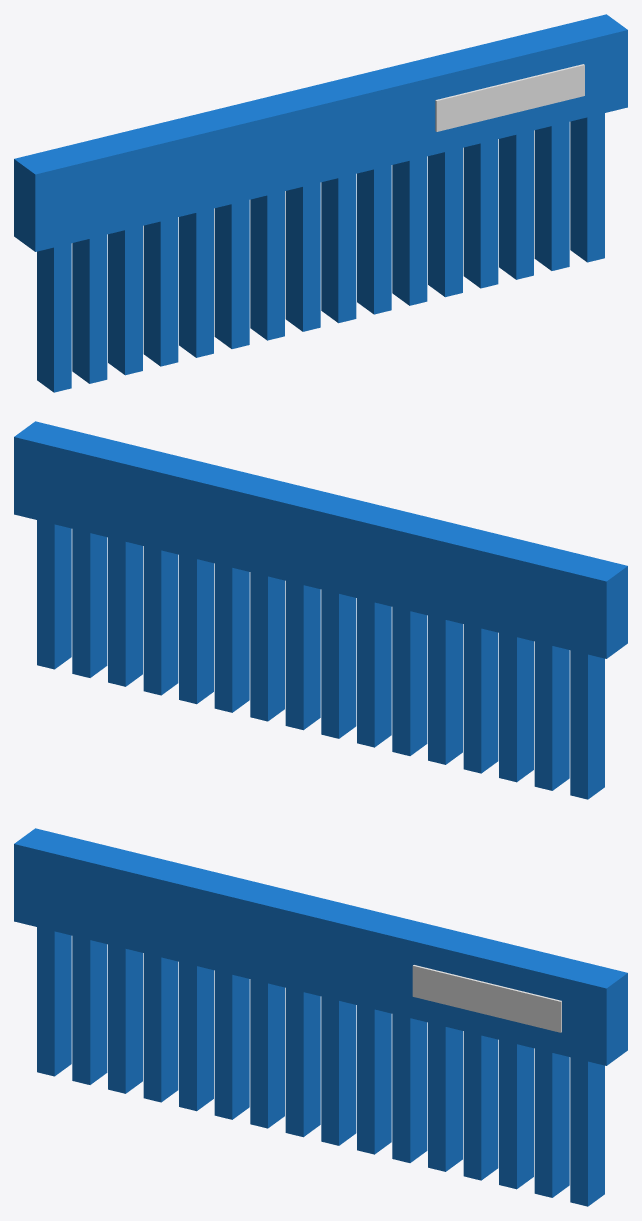
Rendered from kam.glb.
3 views of the same model, one above another, from view 1: azimuth 30°, elevation 25°; view 2: azimuth 150°, elevation 25°; view 3: azimuth 330°, elevation 25° (orthographic).
Visible parts, largest first — view 1: kam; view 2: kam; view 3: kam.
Part boxes in pixels (x1=…): kam: x1=14, y1=14, x2=627, y2=392; kam: x1=14, y1=421, x2=627, y2=799; kam: x1=14, y1=828, x2=627, y2=1206.
Size of the model in its own units: 0.4 by 0.145 by 0.0265.
